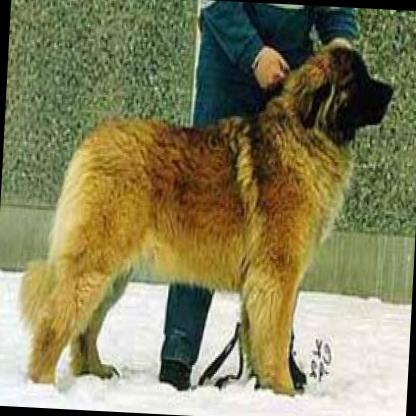Leonberg: (11, 23, 395, 403)
